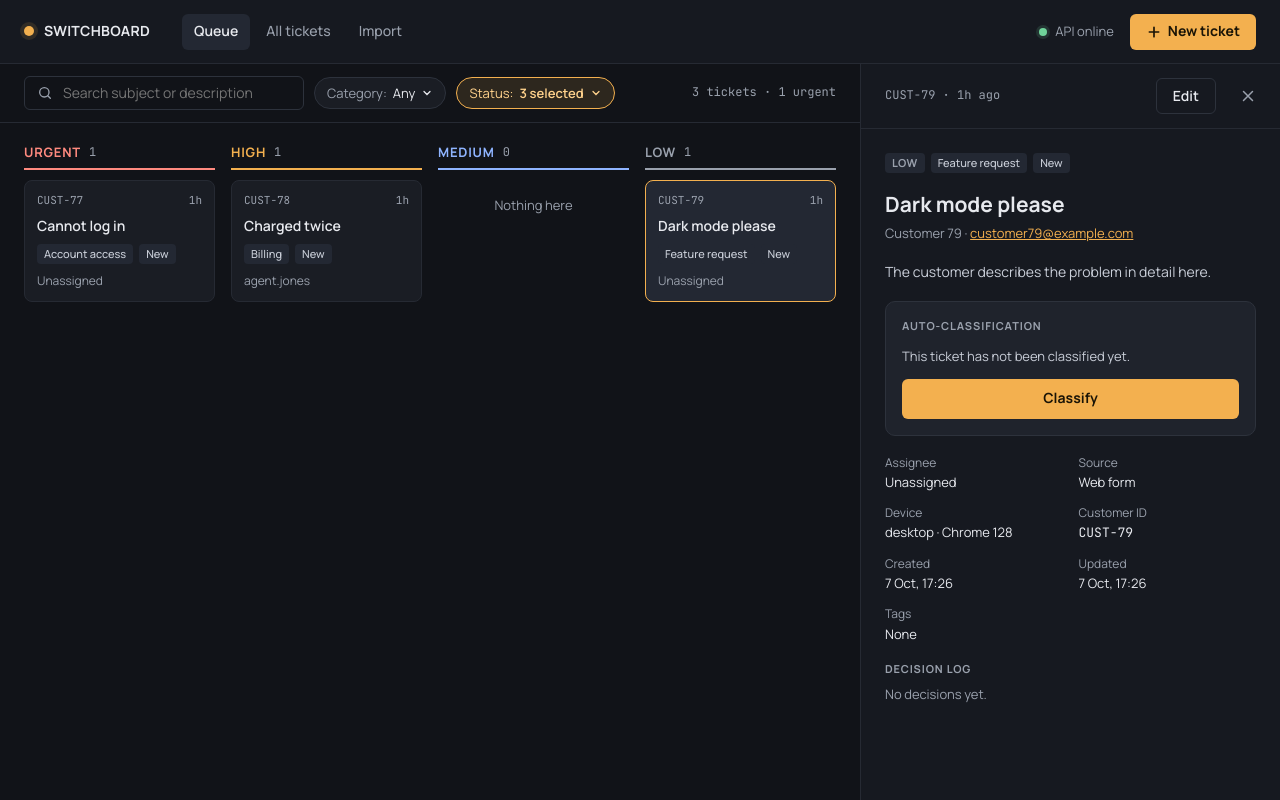
Test: Ticket panel › classifies a ticket and updates the panel, the board and the decision log
This screenshot has width=1280, height=800.
Click the button "Classify".
click(1070, 398)  # box [902, 378, 1239, 418]
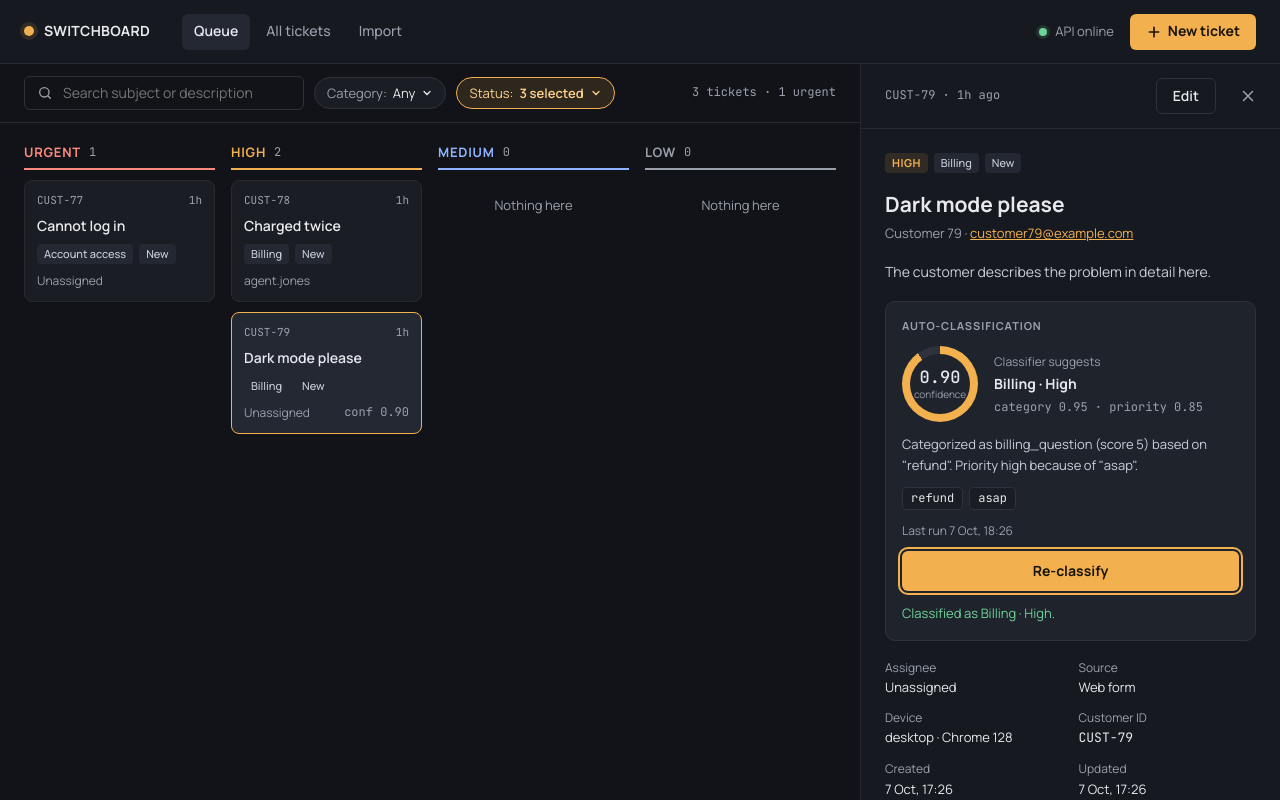
Expected: the text "Classified as Billing · High." is shown, [902, 604, 1055, 622]
Expected: the text "0.90" is shown, [920, 368, 960, 386]
Expected: the list item "refund" is shown, [902, 487, 963, 510]
